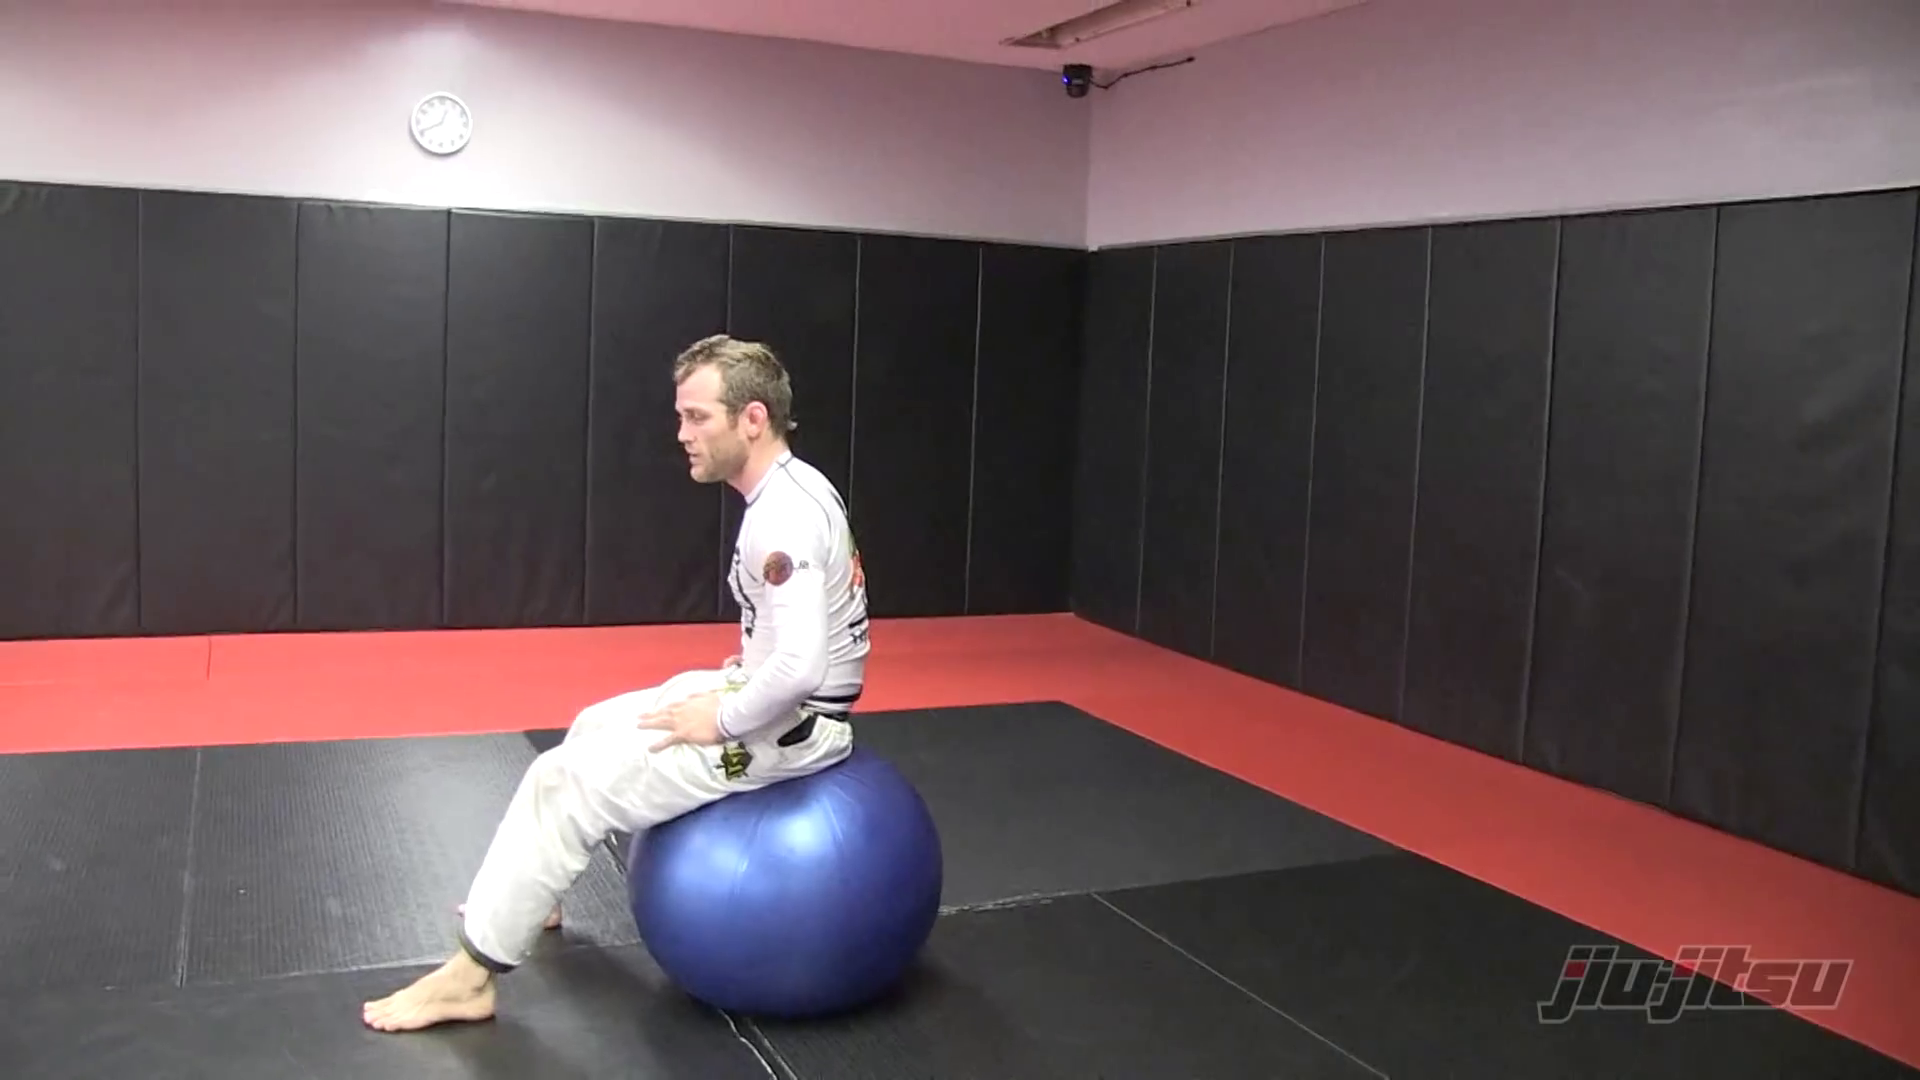yogaball: (626, 742, 951, 1035)
